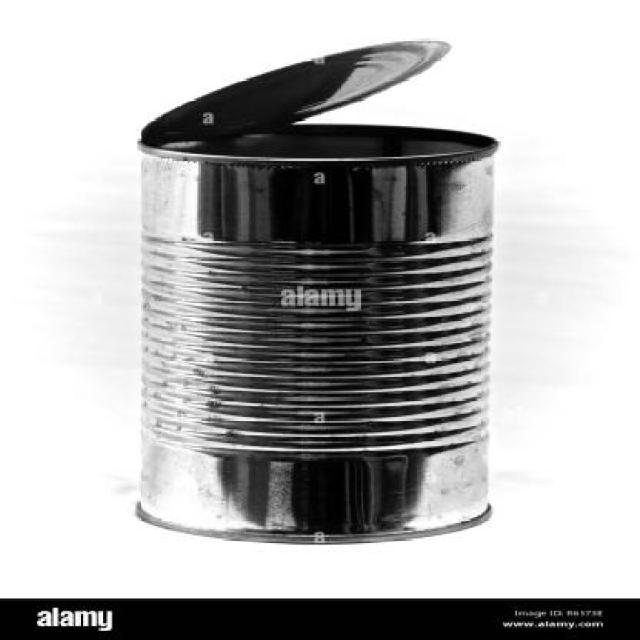Dry Waste: (138, 31, 508, 548)
